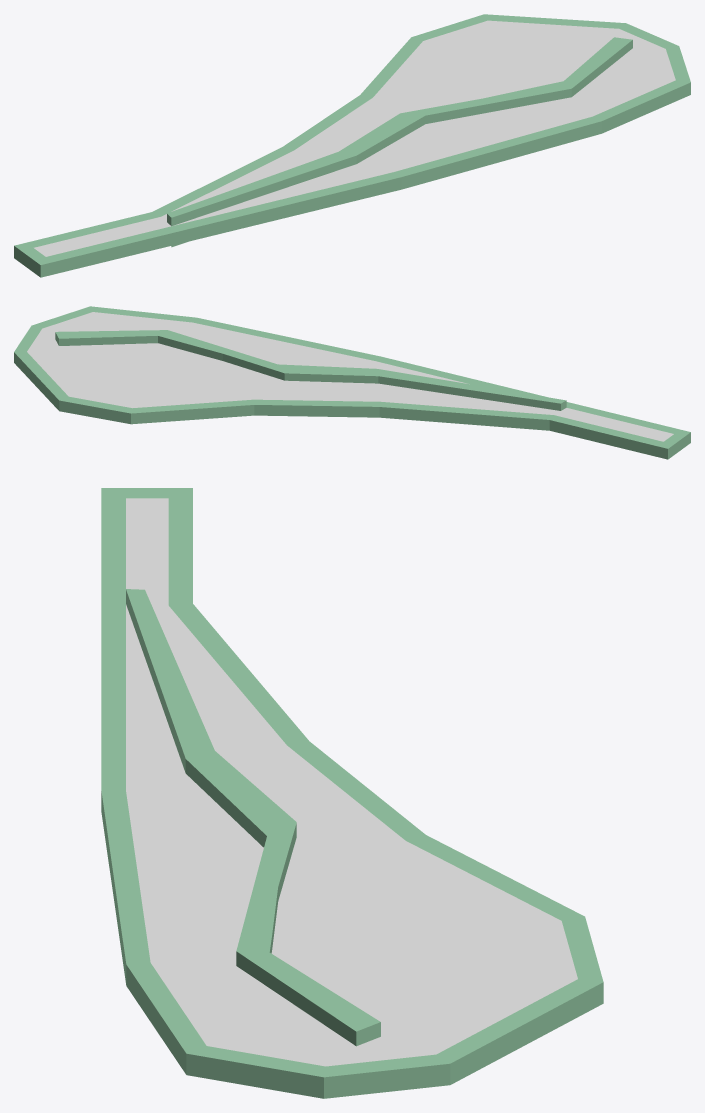
Rendered from Wing.fbx.
The picture shows the model from 3 angles, top to bottom: view 1: azimuth 30°, elevation 25°; view 2: azimuth 150°, elevation 25°; view 3: azimuth 270°, elevation 25°; orthographic projection. The views are drawn at different scales.
Visible parts, largest first — view 1: Wing; view 2: Wing; view 3: Wing.
Part boxes in pixels (bbox=[...]): Wing: bbox=[14, 14, 690, 277]; Wing: bbox=[14, 306, 690, 459]; Wing: bbox=[101, 488, 603, 1098].
Size of the model in its own units: 443 by 17.86 by 160.
